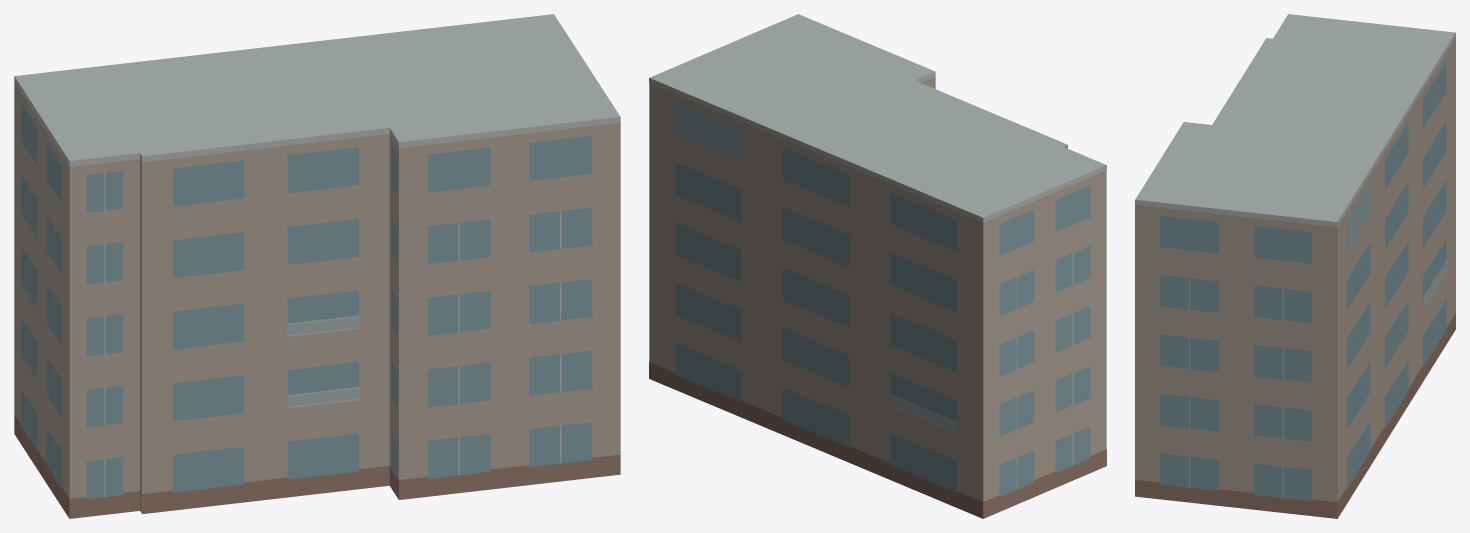
The model's file is survey-upis-32554953.glb.
The picture shows the model from 3 angles, left to right: view 1: azimuth 30°, elevation 25°; view 2: azimuth 150°, elevation 25°; view 3: azimuth 270°, elevation 25°; orthographic projection. The views are drawn at different scales.
Visible parts, largest first — view 1: survey-upis-32554953.tmp; view 2: survey-upis-32554953.tmp; view 3: survey-upis-32554953.tmp.
Boxes of the visible parts, left/top/right/bottom form: survey-upis-32554953.tmp: left=14, top=14, right=620, bottom=518; survey-upis-32554953.tmp: left=649, top=14, right=1106, bottom=518; survey-upis-32554953.tmp: left=1135, top=14, right=1455, bottom=518.
Size of the model in its own units: 21.96 by 14.6 by 14.31.
